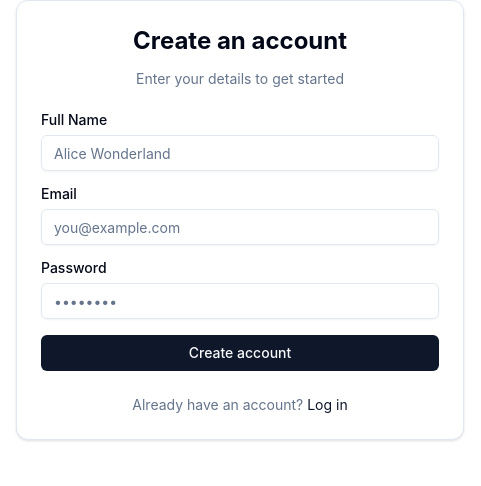
Test: Register page › validates password minimum length
Type "Alice" into the field labelled "Full Name".
click(240, 153); type("Alice")  # box [41,135,439,171]
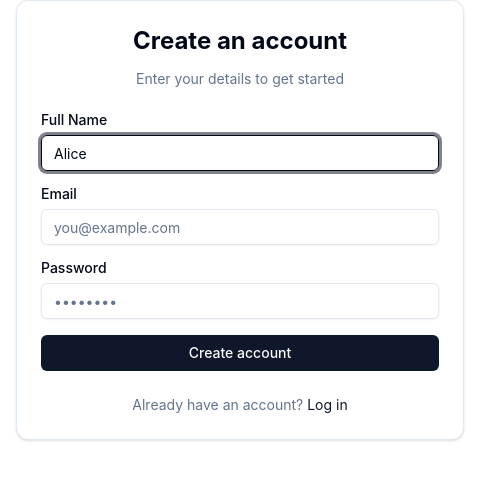
Type "alice@example.com" into the field labelled "Email".
click(240, 227); type("alice@example.com")  # box [41,209,439,245]
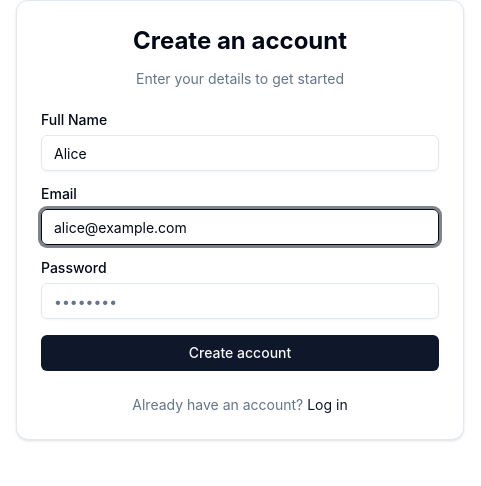
Type "12345" into the password field labelled "Password".
click(240, 301); type("12345")  # box [41,283,439,319]
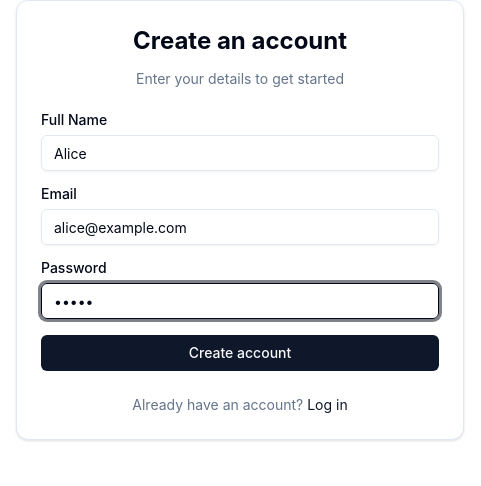
Submit the form from the button "Create account", box [41,335,439,371]
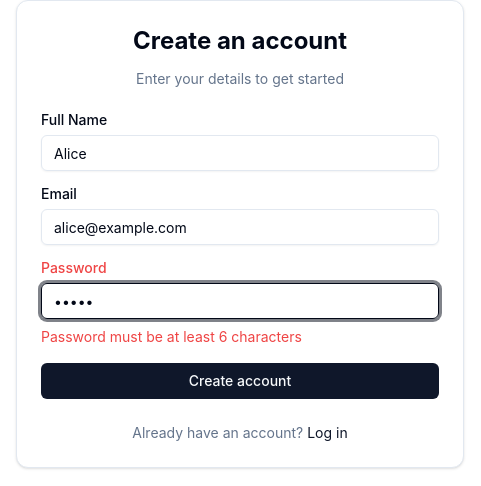
Check: the text "Password must be at least 6 characters" is shown, box [41,328,302,345]
